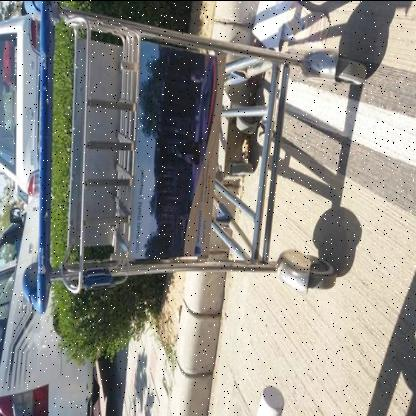airport-trolley: (17, 0, 371, 325)
